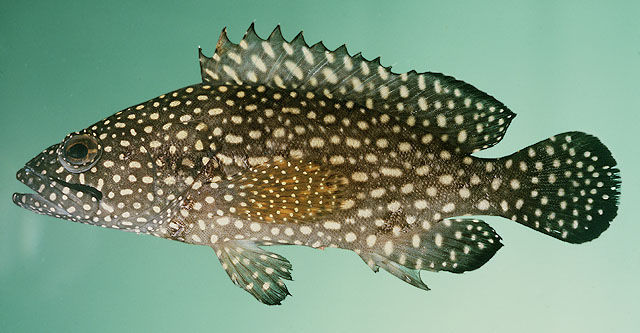fish: (11, 17, 622, 307)
